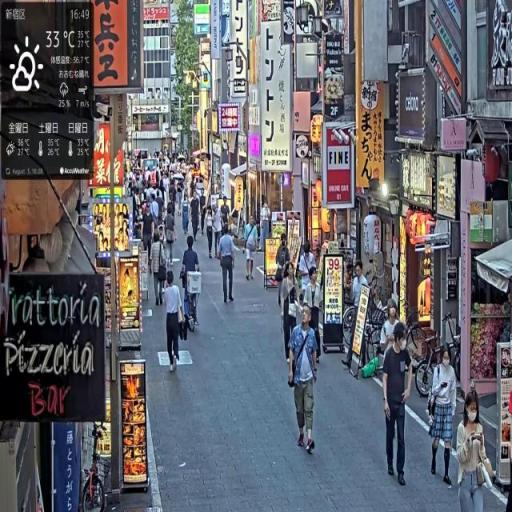person: (383, 321, 415, 487), (287, 303, 321, 458), (456, 388, 497, 512), (428, 345, 459, 488), (280, 265, 303, 378), (164, 270, 186, 371), (180, 233, 202, 331), (304, 268, 325, 365), (218, 224, 237, 306), (151, 230, 170, 309), (244, 214, 260, 282), (164, 205, 178, 272), (143, 204, 156, 273), (205, 203, 216, 260), (191, 194, 201, 241)
